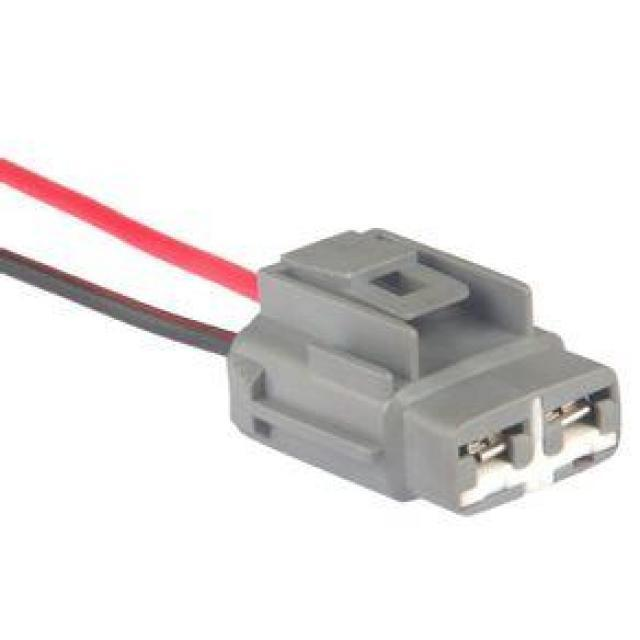connector: (227, 229, 621, 513)
